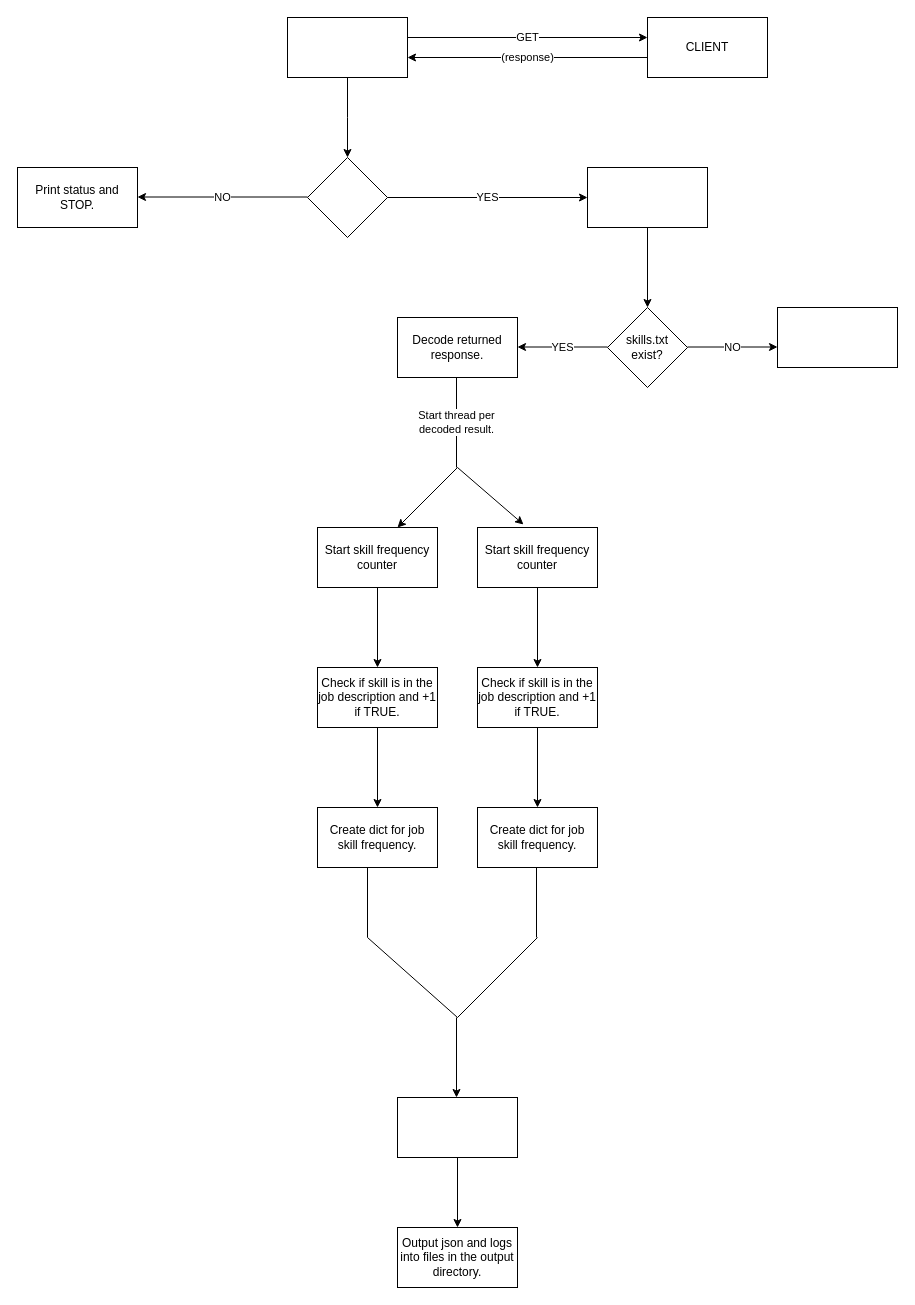
This 915x1305 diagram has some shape labels left out. The centre of each missing label's shape, as x and y in pixels:
Combine both dicts and calculate skill statistics.: pixel 457 1127
Exit script: pixel 837 337
Get skills from file and add to a list.: pixel 647 197
Script: pixel 347 47
Status 200?: pixel 347 197
